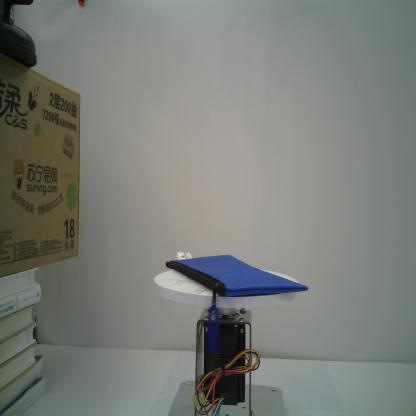Stationery: (164, 249, 311, 372)
